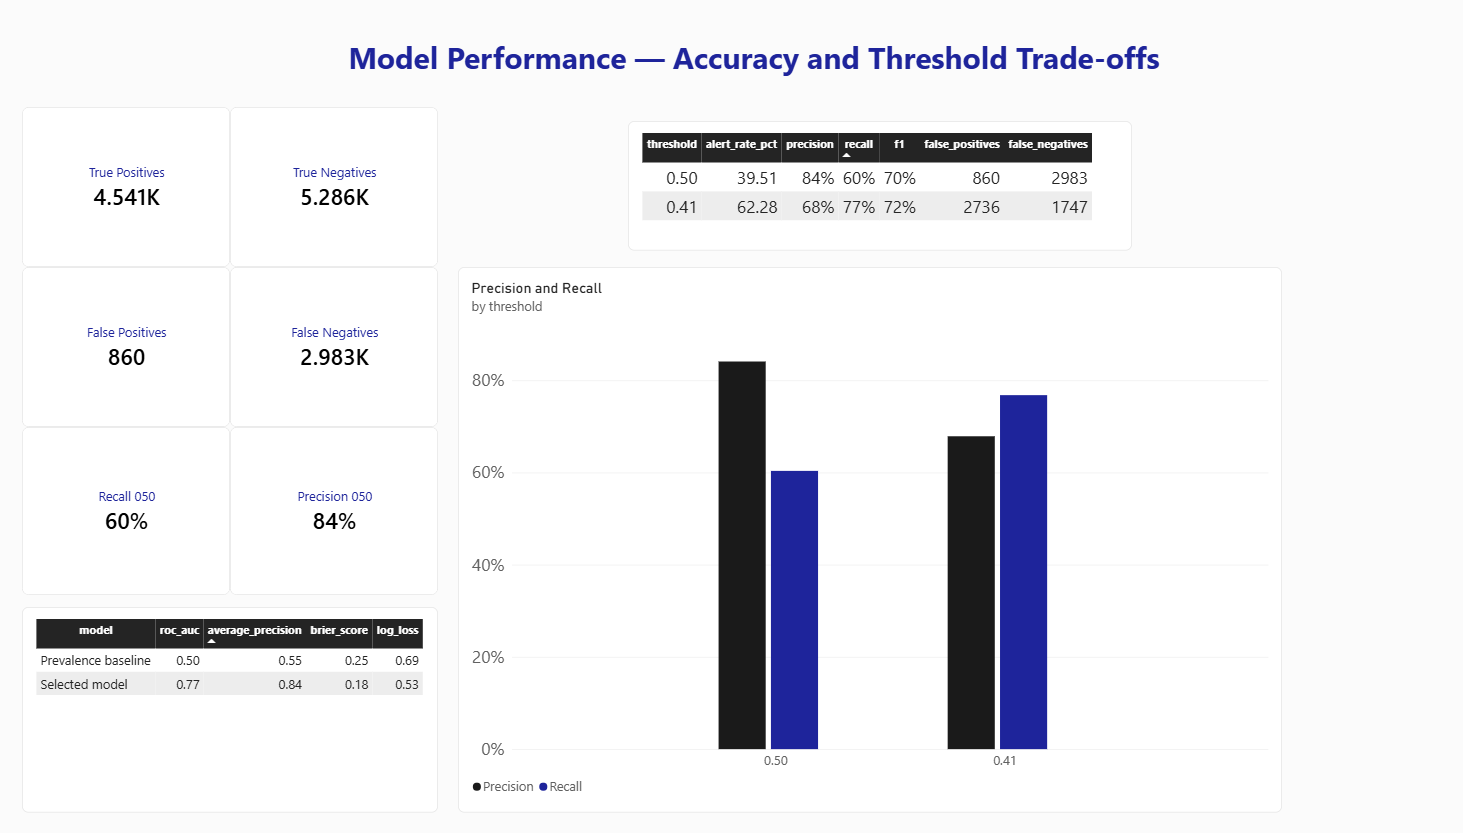

Layout of this report page (visuals, bound fields, positions):
{"tool":"powerbi","page":{"name":"03 Model Performance","canvas":[1920,1080],"ordinal":2},"visuals":[{"type":"cardVisual","fields":{"Data":["_Measures.True Positives"]},"box":[43.3,148.3,260,200],"z":0},{"type":"cardVisual","fields":{"Data":["_Measures.False Positives"]},"box":[43.3,348.3,260,200],"z":1000},{"type":"cardVisual","fields":{"Data":["_Measures.False Negatives"]},"box":[303.3,348.3,260,200],"z":2000},{"type":"cardVisual","fields":{"Data":["_Measures.True Negatives"]},"box":[303.3,148.3,260,200],"z":3000},{"type":"cardVisual","fields":{"Data":["_Measures.Precision 050"]},"box":[303.3,548.3,260,210],"z":4000},{"type":"cardVisual","fields":{"Data":["_Measures.Recall 050"]},"box":[43.3,548.3,260,210],"z":5000},{"type":"tableEx","fields":{"Values":["test_probability_metrics.model","test_probability_metrics.roc_auc","test_probability_metrics.average_precision","test_probability_metrics.brier_score","test_probability_metrics.log_loss"]},"box":[43.3,773.3,520,256.7],"z":6000},{"type":"tableEx","fields":{"Values":["test_threshold_metrics.threshold","test_threshold_metrics.alert_rate_pct","test_threshold_metrics.precision","test_threshold_metrics.recall","test_threshold_metrics.f1","test_threshold_metrics.false_positives","test_threshold_metrics.false_negatives"]},"box":[801.7,166.7,630,161.7],"z":7000},{"type":"clusteredColumnChart","fields":{"Category":["test_threshold_metrics.threshold"],"Y":["Avg(test_threshold_metrics.precision)","Avg(test_threshold_metrics.recall)"]},"box":[588.3,348.3,1030,681.7],"z":8000},{"type":"textbox","box":[156.7,61.7,1605,86.7],"z":10000}]}

Visuals, with their boxes in screenshot pixels (x1, y1, x2, y2), scaled from the page's 1920x1080 canvas onto the 1463x833 screenshot:
cardVisual - _Measures.True Positives: x1=33 y1=114 x2=231 y2=269
cardVisual - _Measures.False Positives: x1=33 y1=269 x2=231 y2=423
cardVisual - _Measures.False Negatives: x1=231 y1=269 x2=429 y2=423
cardVisual - _Measures.True Negatives: x1=231 y1=114 x2=429 y2=269
cardVisual - _Measures.Precision 050: x1=231 y1=423 x2=429 y2=585
cardVisual - _Measures.Recall 050: x1=33 y1=423 x2=231 y2=585
tableEx - test_probability_metrics.model x test_probability_metrics.roc_auc: x1=33 y1=596 x2=429 y2=794
tableEx - test_threshold_metrics.threshold x test_threshold_metrics.alert_rate_pct: x1=611 y1=129 x2=1091 y2=253
clusteredColumnChart - test_threshold_metrics.threshold x Avg(test_threshold_metrics.precision): x1=448 y1=269 x2=1233 y2=794
textbox: x1=119 y1=48 x2=1342 y2=114
